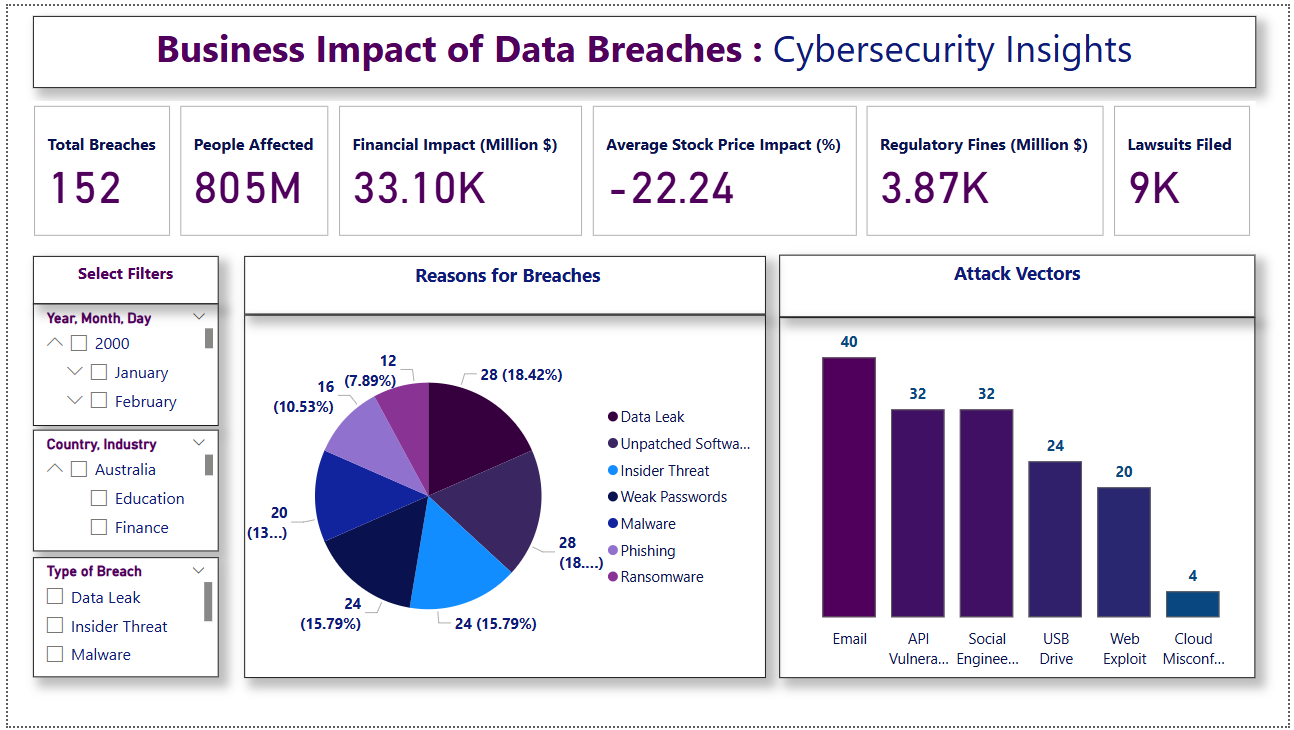

The page's visual inventory and layout, read from the dashboard file:
{"tool":"powerbi","page":{"name":"Cybersecurity Insights","canvas":[1280,720],"ordinal":2},"visuals":[{"type":"group","id":"g1","title":"Group 1","box":[236,249.5,522.1,421.9],"z":0},{"type":"textbox","box":[236.3,249.5,521.8,58.5],"z":0,"group":"g1"},{"type":"group","id":"g2","title":"Group 8","box":[24.5,297.3,185.9,374],"z":0,"group":"g4"},{"type":"group","id":"g3","title":"Group 2","box":[771.6,248.2,475.7,423.1],"z":1000},{"type":"textbox","box":[24.5,249.5,185.4,47.8],"z":1000,"group":"g4"},{"type":"textbox","box":[771.6,248.2,475.7,62.7],"z":2000,"group":"g3"},{"type":"group","id":"g4","title":"Group 9","box":[24.5,249.5,185.9,421.9],"z":2000},{"type":"textbox","box":[24.5,9.8,1222.8,72.1],"z":3000},{"type":"slicer","fields":{"Values":["Sheet1.Date of Breach.Variation.Date Hierarchy.Year","Sheet1.Date of Breach.Variation.Date Hierarchy.Month","Sheet1.Date of Breach.Variation.Date Hierarchy.Day"]},"box":[24.5,297.3,185.9,122.8],"z":3000,"group":"g2"},{"type":"pieChart","fields":{"Category":["Sheet1.Cause"],"Y":["Sheet1.Total Breaches"]},"box":[236,308.2,521.8,363.2],"z":3000,"group":"g1"},{"type":"group","id":"g5","title":"Group 7","box":[20.8,95.4,1226.5,140.6],"z":4000},{"type":"clusteredColumnChart","fields":{"Category":["Sheet1.Attack Vector"],"Y":["Sheet1.Total Breaches"]},"box":[771.6,310.9,475.7,360.4],"z":4000,"group":"g3"},{"type":"slicer","fields":{"Values":["Sheet1.Country","Sheet1.Industry"]},"box":[24.5,424,185.5,121.4],"z":4000,"group":"g2"},{"type":"slicer","fields":{"Values":["Sheet1.Type of Breach"]},"box":[24.7,550.9,185.4,120.4],"z":5000,"group":"g2"},{"type":"cardVisual","fields":{"Data":["Avg(Sheet1.Stock Price Impact (%))"]},"box":[579.2,95.4,274,140.6],"z":6000,"group":"g5"},{"type":"cardVisual","fields":{"Data":["Sheet1.Total Breaches"]},"box":[20.8,95.4,146.6,140.6],"z":7000,"group":"g5"},{"type":"cardVisual","fields":{"Data":["Sum(Sheet1.Regulatory Fines (Million $))"]},"box":[853.3,95.4,247.4,140.6],"z":8000,"group":"g5"},{"type":"cardVisual","fields":{"Data":["Sum(Sheet1.Lawsuits Filed)"]},"box":[1100.7,95.4,146.6,140.6],"z":9000,"group":"g5"},{"type":"cardVisual","fields":{"Data":["Sum(Sheet1.People Affected)"]},"box":[167.4,95.4,158.5,140.6],"z":10000,"group":"g5"},{"type":"cardVisual","fields":{"Data":["Sum(Sheet1.Financial Impact (Million $))"]},"box":[325.9,95.4,253.3,140.6],"z":11000,"group":"g5"}]}

Visuals, with their boxes in screenshot pixels (x1, y1, x2, y2), scaled from the page's 1280x720 canvas onto the 1294x730 screenshot:
"Group 1" group: {"x1": 239, "y1": 253, "x2": 766, "y2": 681}
textbox: {"x1": 239, "y1": 253, "x2": 766, "y2": 312}
"Group 8" group: {"x1": 25, "y1": 301, "x2": 213, "y2": 681}
"Group 2" group: {"x1": 780, "y1": 252, "x2": 1261, "y2": 681}
textbox: {"x1": 25, "y1": 253, "x2": 212, "y2": 301}
textbox: {"x1": 780, "y1": 252, "x2": 1261, "y2": 315}
"Group 9" group: {"x1": 25, "y1": 253, "x2": 213, "y2": 681}
textbox: {"x1": 25, "y1": 10, "x2": 1261, "y2": 83}
slicer - Sheet1.Date of Breach.Variation.Date Hierarchy.Year x Sheet1.Date of Breach.Variation.Date Hierarchy.Month: {"x1": 25, "y1": 301, "x2": 213, "y2": 426}
pieChart - Sheet1.Cause x Sheet1.Total Breaches: {"x1": 239, "y1": 312, "x2": 766, "y2": 681}
"Group 7" group: {"x1": 21, "y1": 97, "x2": 1261, "y2": 239}
clusteredColumnChart - Sheet1.Attack Vector x Sheet1.Total Breaches: {"x1": 780, "y1": 315, "x2": 1261, "y2": 681}
slicer - Sheet1.Country x Sheet1.Industry: {"x1": 25, "y1": 430, "x2": 212, "y2": 553}
slicer - Sheet1.Type of Breach: {"x1": 25, "y1": 559, "x2": 212, "y2": 681}
cardVisual - Avg(Sheet1.Stock Price Impact (%)): {"x1": 586, "y1": 97, "x2": 863, "y2": 239}
cardVisual - Sheet1.Total Breaches: {"x1": 21, "y1": 97, "x2": 169, "y2": 239}
cardVisual - Sum(Sheet1.Regulatory Fines (Million $)): {"x1": 863, "y1": 97, "x2": 1113, "y2": 239}
cardVisual - Sum(Sheet1.Lawsuits Filed): {"x1": 1113, "y1": 97, "x2": 1261, "y2": 239}
cardVisual - Sum(Sheet1.People Affected): {"x1": 169, "y1": 97, "x2": 329, "y2": 239}
cardVisual - Sum(Sheet1.Financial Impact (Million $)): {"x1": 329, "y1": 97, "x2": 586, "y2": 239}
